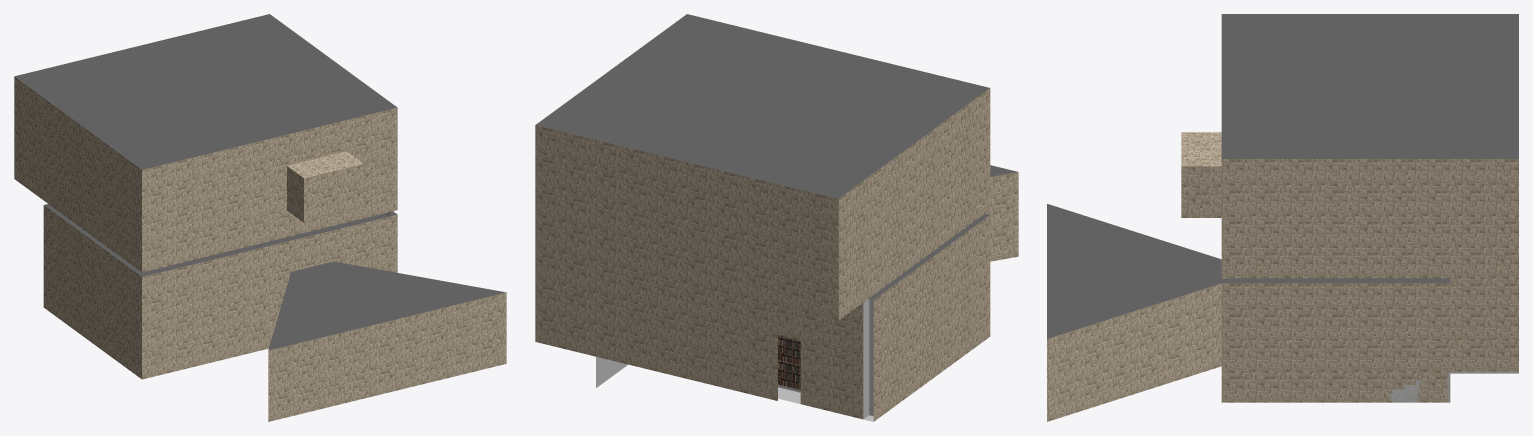
The model's file is linkshouse.fbx.
The picture shows the model from 3 angles, left to right: view 1: azimuth 30°, elevation 25°; view 2: azimuth 150°, elevation 25°; view 3: azimuth 270°, elevation 25°; orthographic projection. The views are drawn at different scales.
Visible parts, largest first — view 1: Colison, No Colision, No Colision1; view 2: Colison, No Colision; view 3: Colison, No Colision, No Colision1.
Boxes of the visible parts, x1,y1,x2,y2 form: Colison: (14, 77, 506, 421); No Colision: (14, 14, 397, 276); No Colision1: (292, 155, 363, 222); Colison: (535, 88, 1018, 421); No Colision: (536, 14, 989, 300); Colison: (1047, 132, 1518, 421); No Colision: (1221, 14, 1518, 283); No Colision1: (1181, 132, 1209, 217).
Size of the model in its own units: 1088 by 752 by 1320.
